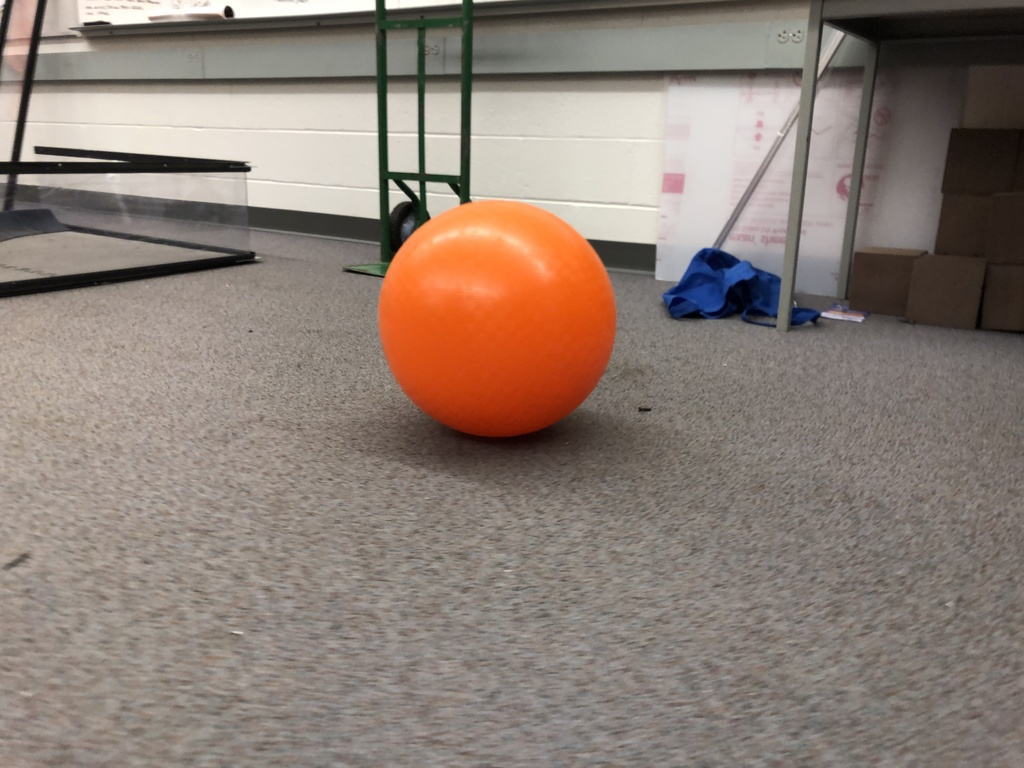cargo: (373, 193, 625, 445)
